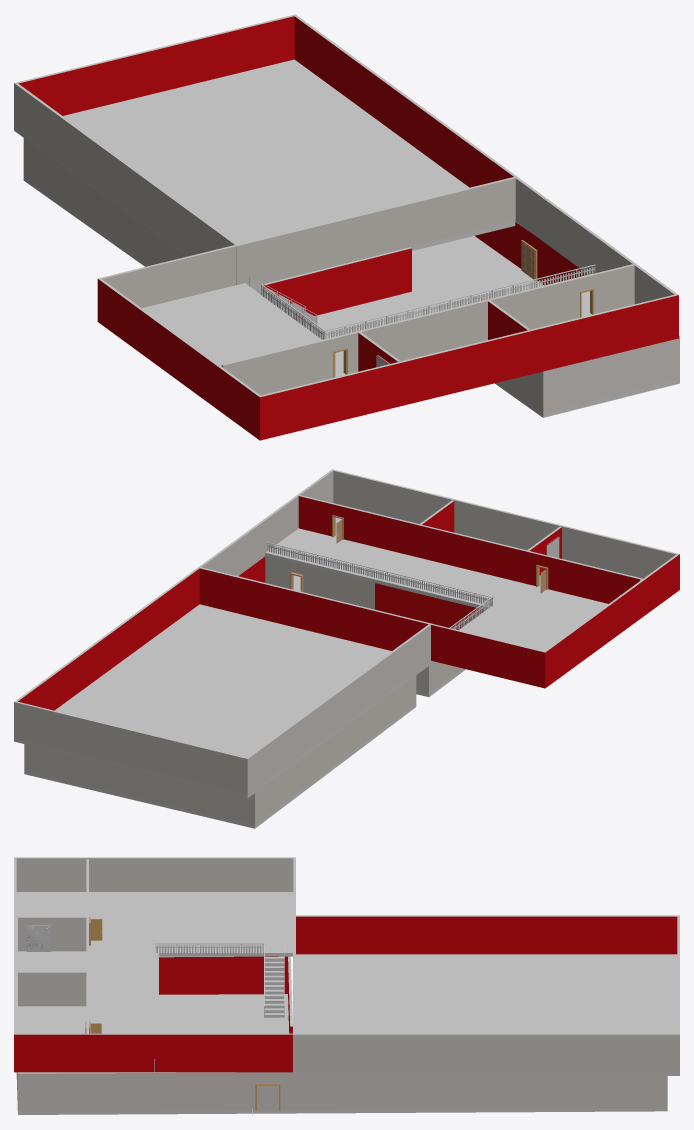
Rendered from House_indoor._fan.fbx.
The picture shows the model from 3 angles, top to bottom: view 1: azimuth 30°, elevation 25°; view 2: azimuth 150°, elevation 25°; view 3: azimuth 270°, elevation 25°; orthographic projection. The views are drawn at different scales.
Visible parts, largest first — view 1: Wall.004, Slab.001, Wall.005, Wall, Wall.006, Slab, Slab.002, Fence.001, Wall.007, Wall.008, Fence.002, Stair; view 2: Wall.005, Slab.001, Wall.004, Wall, Slab.002, Wall.006, Wall.003, Slab, Fence.001, Wall.007; view 3: Slab.001, Wall.004, Wall, Slab.002, Wall.005, Slab, Wall.007, Wall.008, Stair, Fence.002, hole, Wall.006.
Part boxes in pixels (x1,y1,x2,y2): Wall.004: [14, 14, 517, 285]; Slab.001: [14, 59, 515, 286]; Wall.005: [97, 176, 678, 440]; Wall: [23, 138, 679, 413]; Wall.006: [221, 264, 634, 395]; Slab: [23, 176, 679, 417]; Slab.002: [142, 274, 629, 395]; Fence.001: [322, 264, 595, 339]; Wall.007: [488, 300, 529, 339]; Wall.008: [358, 331, 400, 371]; Fence.002: [261, 284, 325, 339]; Stair: [249, 276, 318, 327]; Wall.005: [198, 469, 679, 688]; Slab.001: [14, 604, 432, 798]; Wall.004: [14, 567, 432, 794]; Wall: [24, 556, 484, 824]; Slab.002: [265, 504, 642, 650]; Wall.006: [298, 495, 641, 603]; Wall.003: [265, 556, 374, 609]; Slab: [24, 575, 465, 828]; Fence.001: [267, 542, 493, 606]; Wall.007: [419, 500, 454, 532]; Slab.001: [293, 954, 679, 1075]; Wall.004: [293, 915, 679, 1072]; Wall: [16, 956, 667, 1111]; Slab.002: [16, 892, 293, 1033]; Wall.005: [14, 857, 295, 1072]; Slab: [16, 994, 667, 1114]; Wall.007: [18, 971, 87, 1006]; Wall.008: [18, 916, 87, 951]; Stair: [264, 942, 284, 1017]; Fence.002: [153, 943, 264, 956]; hole: [26, 925, 51, 951]; Wall.006: [86, 859, 88, 1033].
Size of the model in its own units: 3141 by 630 by 4818.
